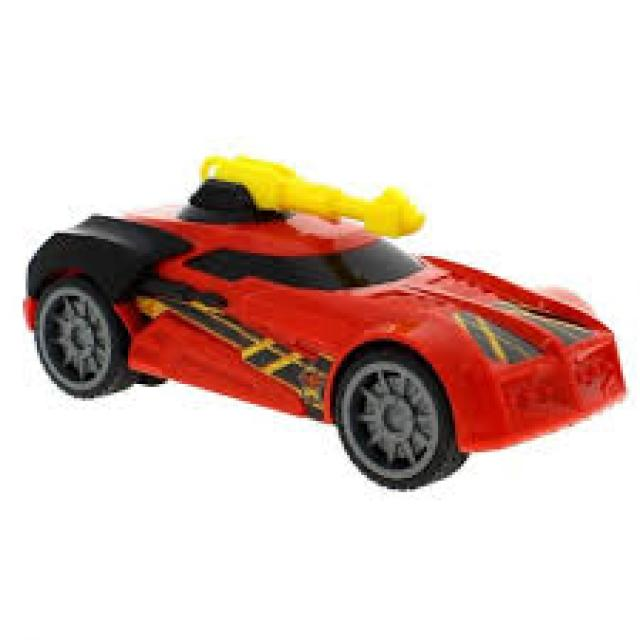Car: (20, 151, 626, 492)
